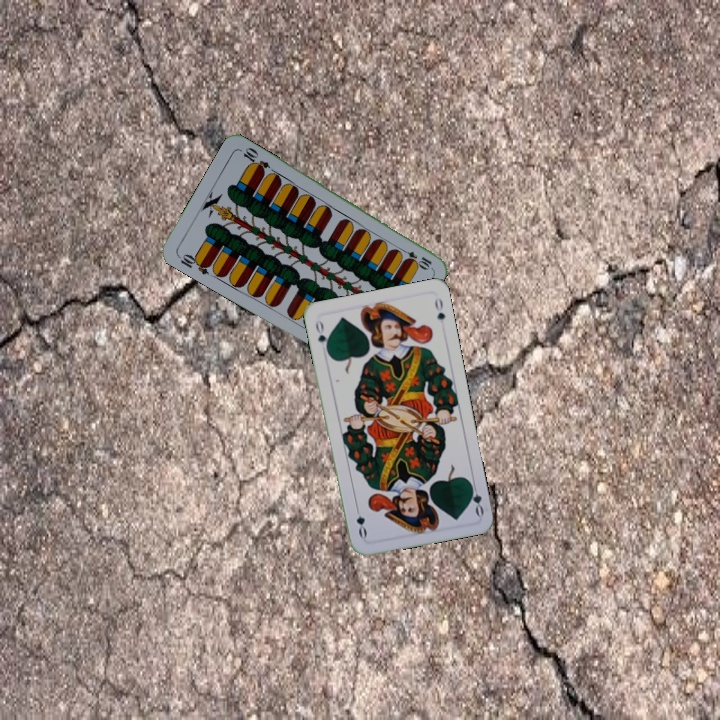E10: (174, 249, 213, 277), (396, 244, 434, 271)
GO: (466, 478, 486, 518), (311, 317, 331, 355)
